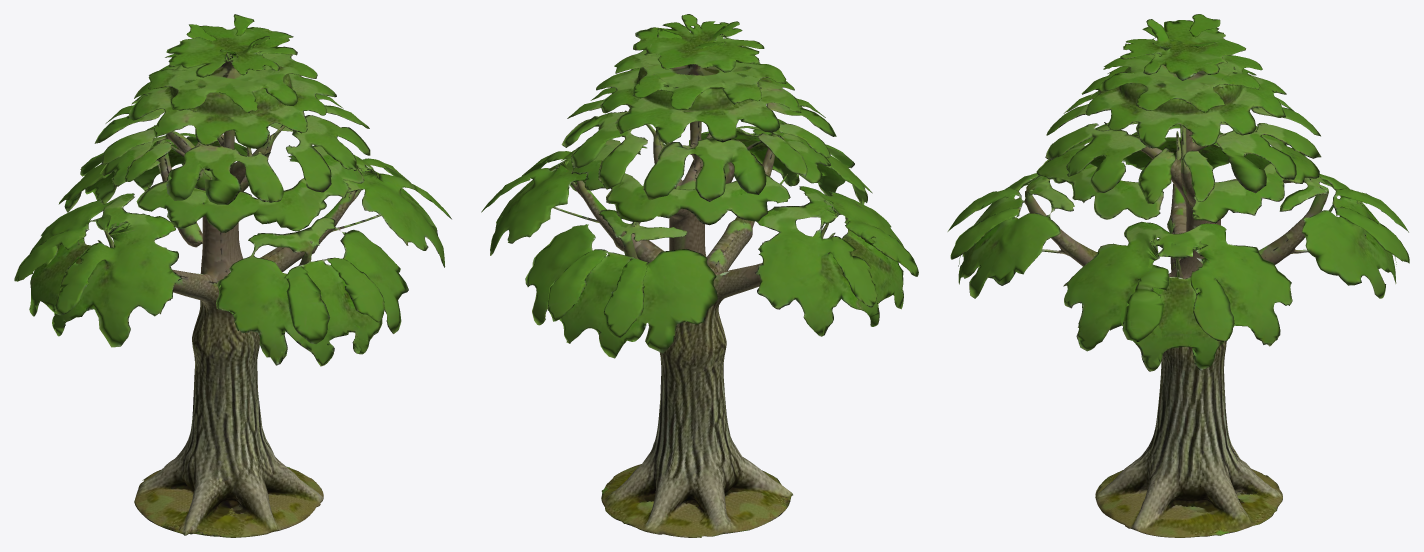
The model's file is oak_tree_small.glb.
3 views of the same model, side by side, from view 1: azimuth 30°, elevation 25°; view 2: azimuth 150°, elevation 25°; view 3: azimuth 270°, elevation 25° (orthographic).
Visible parts, largest first — view 1: model; view 2: model; view 3: model.
Part boxes in pixels (x1,y1,x2,y2): model: (14,14,451,537); model: (481,14,918,537); model: (947,14,1409,537).
Size of the model in its own units: 1.68 by 1.9 by 1.71.
Materials: 1 (1 with a texture image).
